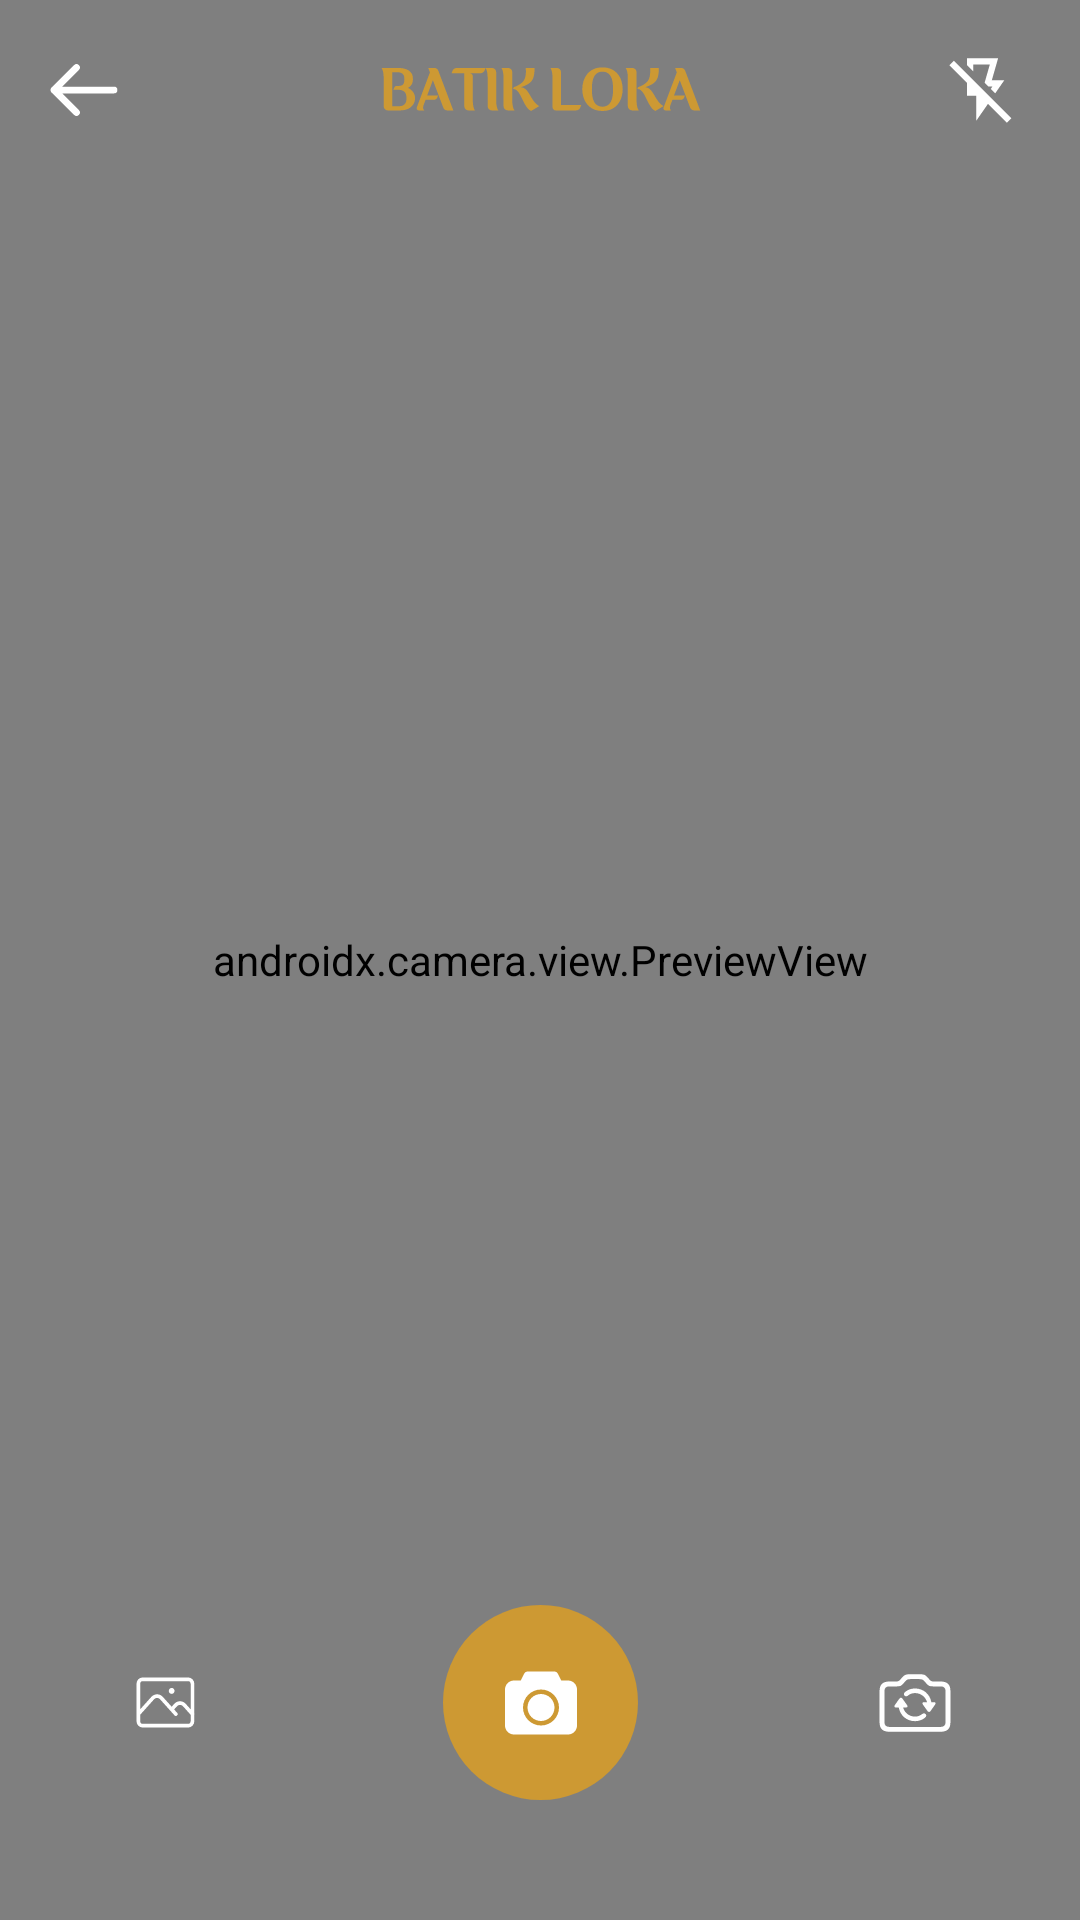

Point at icon controls on the screen. Image size 1080*1920, points as (x=x, y=y).
camera rotate: (x=915, y=1703)
flash off: (x=980, y=90)
photo: (x=165, y=1702)
